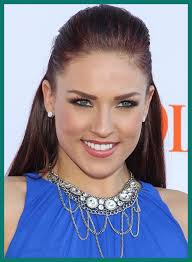indian_female: (27, 6, 163, 182)
